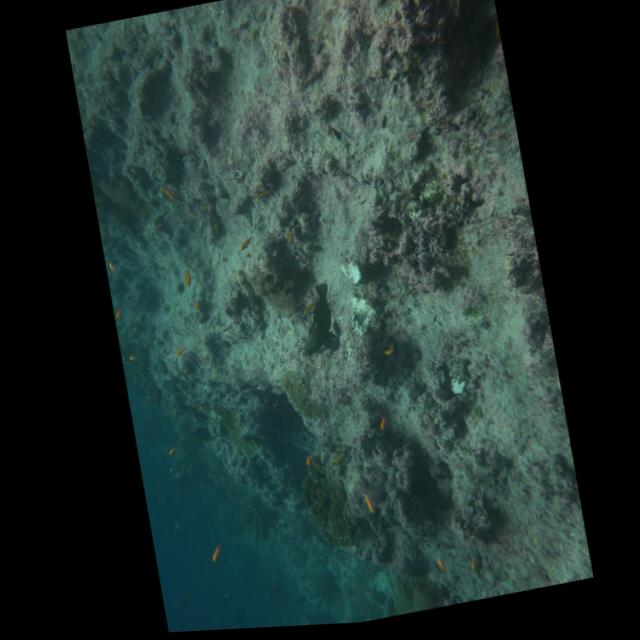Groupers: (295, 281, 341, 357)
